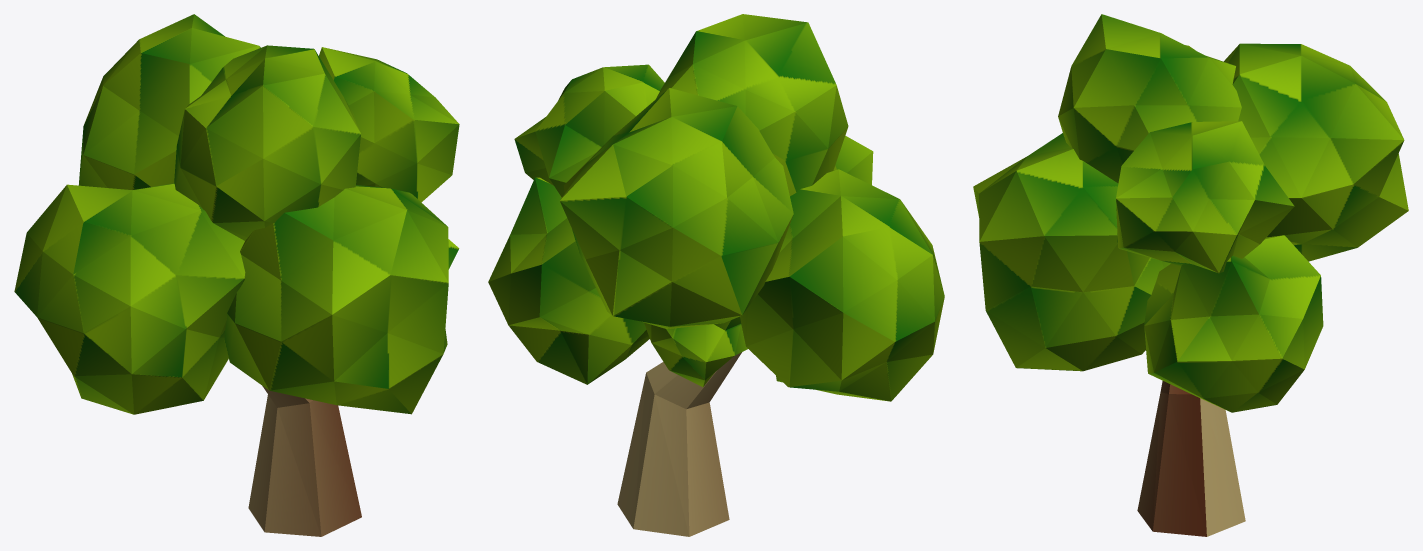
File: Laubbaum2_final.fbx
3 renders of one model, left to right at view 1: azimuth 30°, elevation 25°; view 2: azimuth 150°, elevation 25°; view 3: azimuth 270°, elevation 25°, orthographic. The views are drawn at different scales.
Parts seen in each view (by area): view 1: laubbaumfinal_2_1; view 2: laubbaumfinal_2_1; view 3: laubbaumfinal_2_1.
Boxes of the visible parts, bbox=[...] form: laubbaumfinal_2_1: bbox=[14, 14, 459, 536]; laubbaumfinal_2_1: bbox=[488, 14, 944, 536]; laubbaumfinal_2_1: bbox=[973, 14, 1408, 536].
Size of the model in its own units: 634 by 711 by 608.
